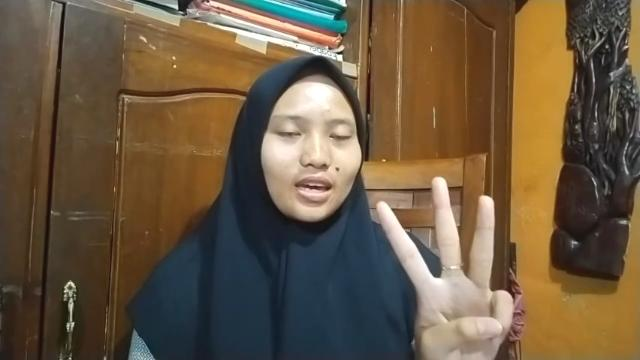W: (374, 175, 515, 360)
